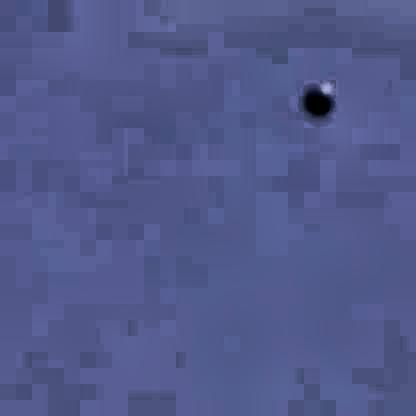golfball: (297, 80, 330, 116)
